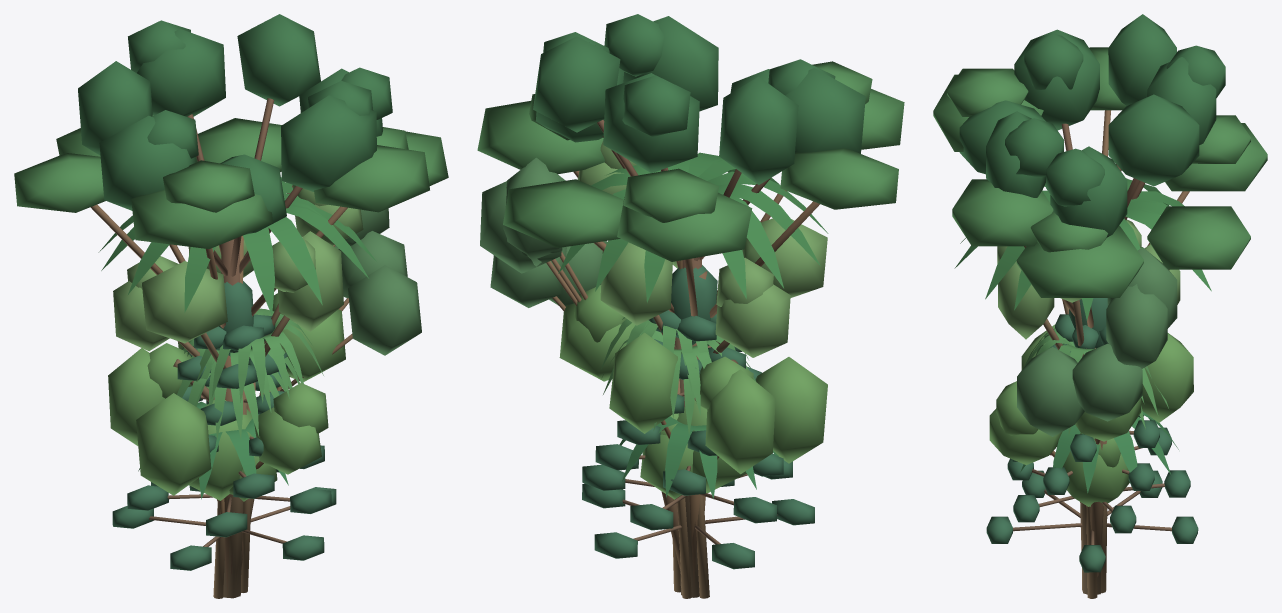
File: species-core-v1.16.glb
3 renders of one model, left to right at view 1: azimuth 30°, elevation 25°; view 2: azimuth 150°, elevation 25°; view 3: azimuth 270°, elevation 25°, orthographic. The views are drawn at different scales.
Parts seen in each view (by area): view 1: species_ohia_emergent, species_koa_broad, species_humid_sapling, species_kukui_round, species_alpine_conifer, species_ridge_wind_form, species_pandanus_form, species_palm_form, species_tree_fern_form, species_broken_deadwood; view 2: species_ohia_emergent, species_koa_broad, species_humid_sapling, species_alpine_conifer, species_kukui_round, species_ridge_wind_form, species_palm_form, species_pandanus_form, species_tree_fern_form, species_broken_deadwood; view 3: species_ohia_emergent, species_koa_broad, species_ridge_wind_form, species_alpine_conifer, species_humid_sapling, species_kukui_round, species_palm_form, species_pandanus_form, species_tree_fern_form.
Boxes of the visible parts, x1,y1,x2,y2 form: species_ohia_emergent: [78, 14, 392, 574]; species_koa_broad: [14, 115, 448, 597]; species_humid_sapling: [108, 293, 345, 513]; species_kukui_round: [113, 185, 363, 592]; species_alpine_conifer: [112, 281, 336, 570]; species_ridge_wind_form: [241, 208, 421, 569]; species_pandanus_form: [176, 308, 323, 598]; species_palm_form: [98, 177, 376, 315]; species_tree_fern_form: [138, 401, 288, 500]; species_broken_deadwood: [173, 357, 249, 598]; species_ohia_emergent: [533, 14, 865, 530]; species_koa_broad: [477, 61, 904, 597]; species_humid_sapling: [559, 285, 827, 510]; species_alpine_conifer: [582, 265, 814, 569]; species_kukui_round: [577, 141, 827, 357]; species_ridge_wind_form: [480, 157, 680, 570]; species_palm_form: [558, 152, 828, 302]; species_pandanus_form: [601, 317, 756, 598]; species_tree_fern_form: [619, 416, 784, 540]; species_broken_deadwood: [675, 337, 738, 597]; species_ohia_emergent: [959, 14, 1225, 237]; species_koa_broad: [933, 47, 1267, 328]; species_ridge_wind_form: [1017, 247, 1177, 576]; species_alpine_conifer: [986, 298, 1198, 572]; species_humid_sapling: [989, 324, 1193, 506]; species_kukui_round: [997, 219, 1180, 582]; species_palm_form: [954, 178, 1211, 320]; species_pandanus_form: [1023, 328, 1168, 598]; species_tree_fern_form: [1020, 411, 1178, 493].
Bounding box in the file's own units: 12.78 × 16.16 × 9.1.
